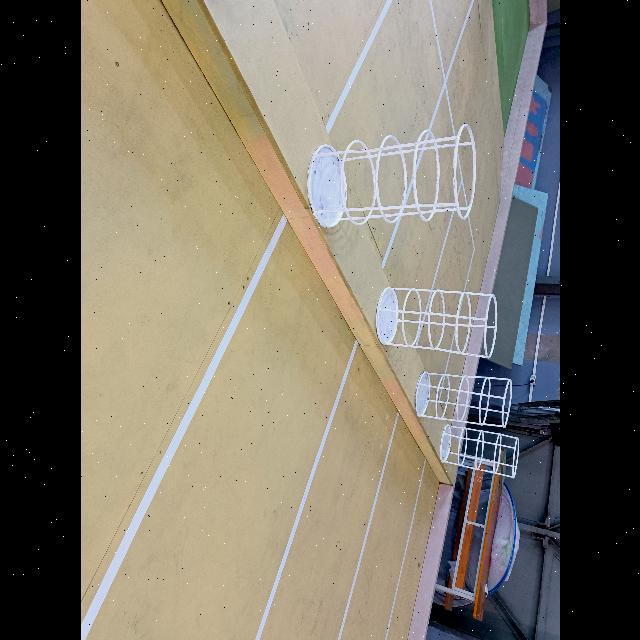S: (307, 124, 477, 228), (376, 287, 498, 358), (415, 372, 512, 428), (438, 424, 520, 478)
